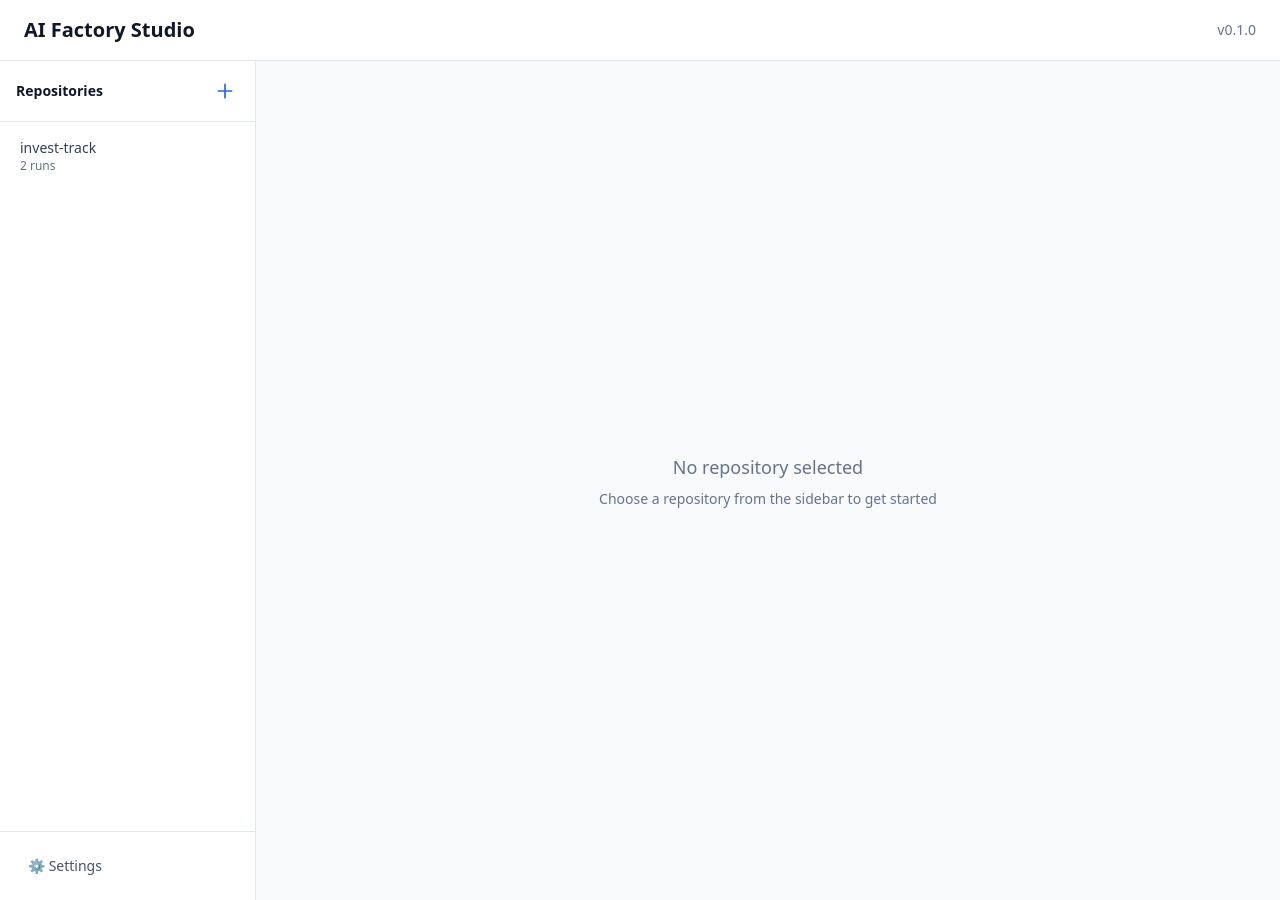
Scenario: on the whole screen › a saved default decides what the next task form starts from
Click the button "invest-track 2 runs".
click(128, 156)  # box [8,130,247,182]
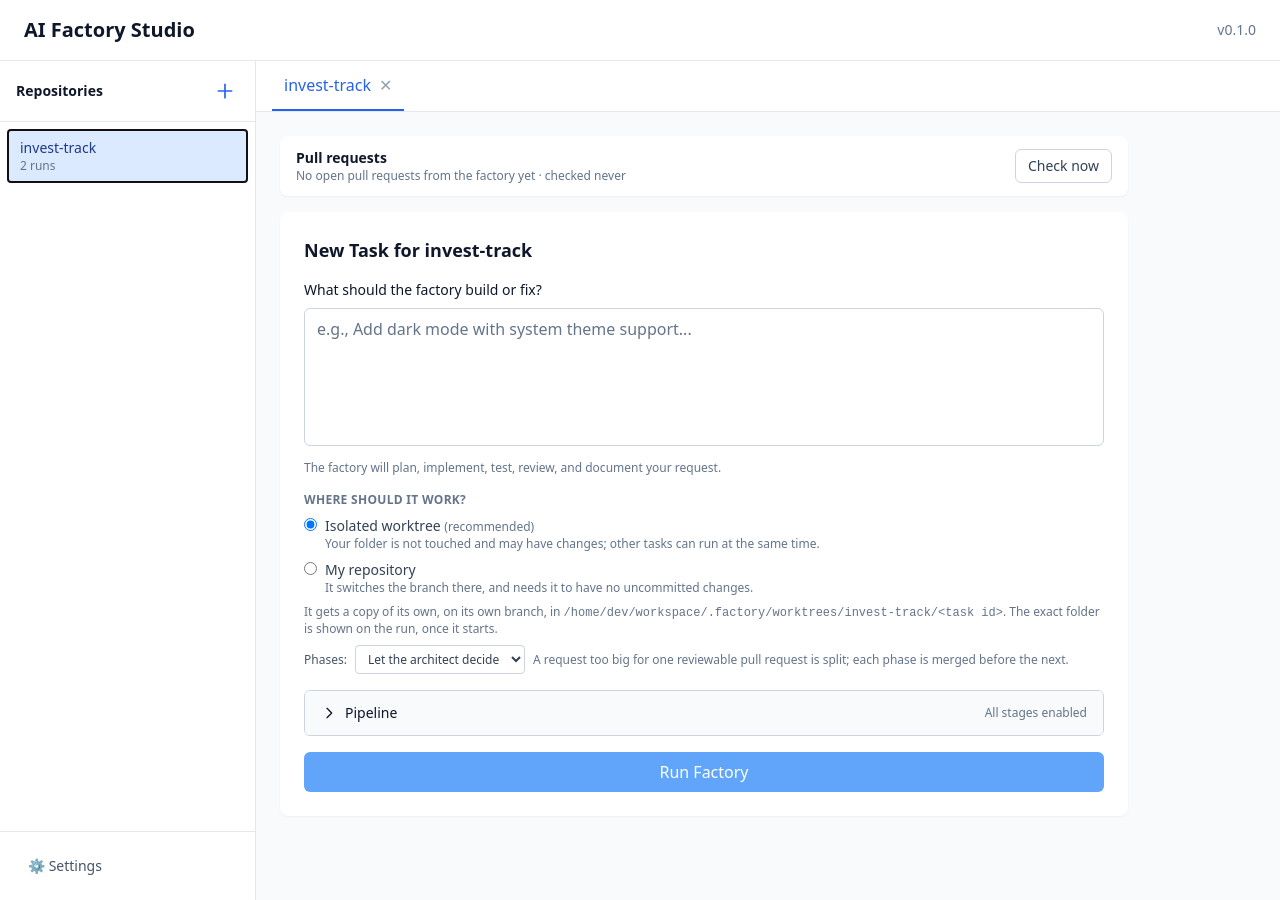
Expected: the heading "New Task for invest-track" is shown, [304,236,532,264]
Expected: the radio button labelled "Isolated worktree" is checked, [304,518,317,531]
Click the button "⚙️ Settings".
click(128, 866)  # box [16,848,239,884]
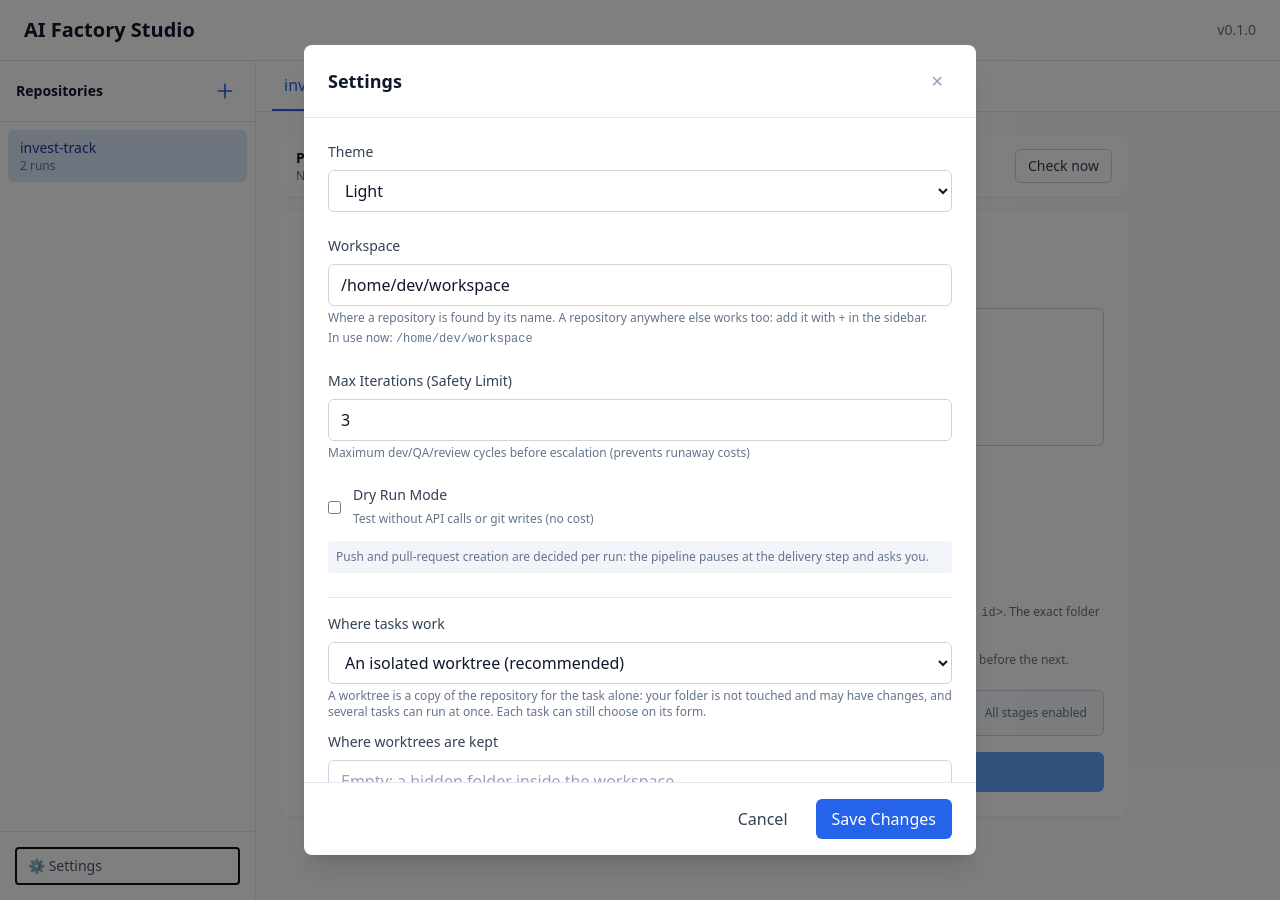
Select "My repository" in the dropdown labelled "Where tasks work" at (640, 663), box [328,642,952,684]
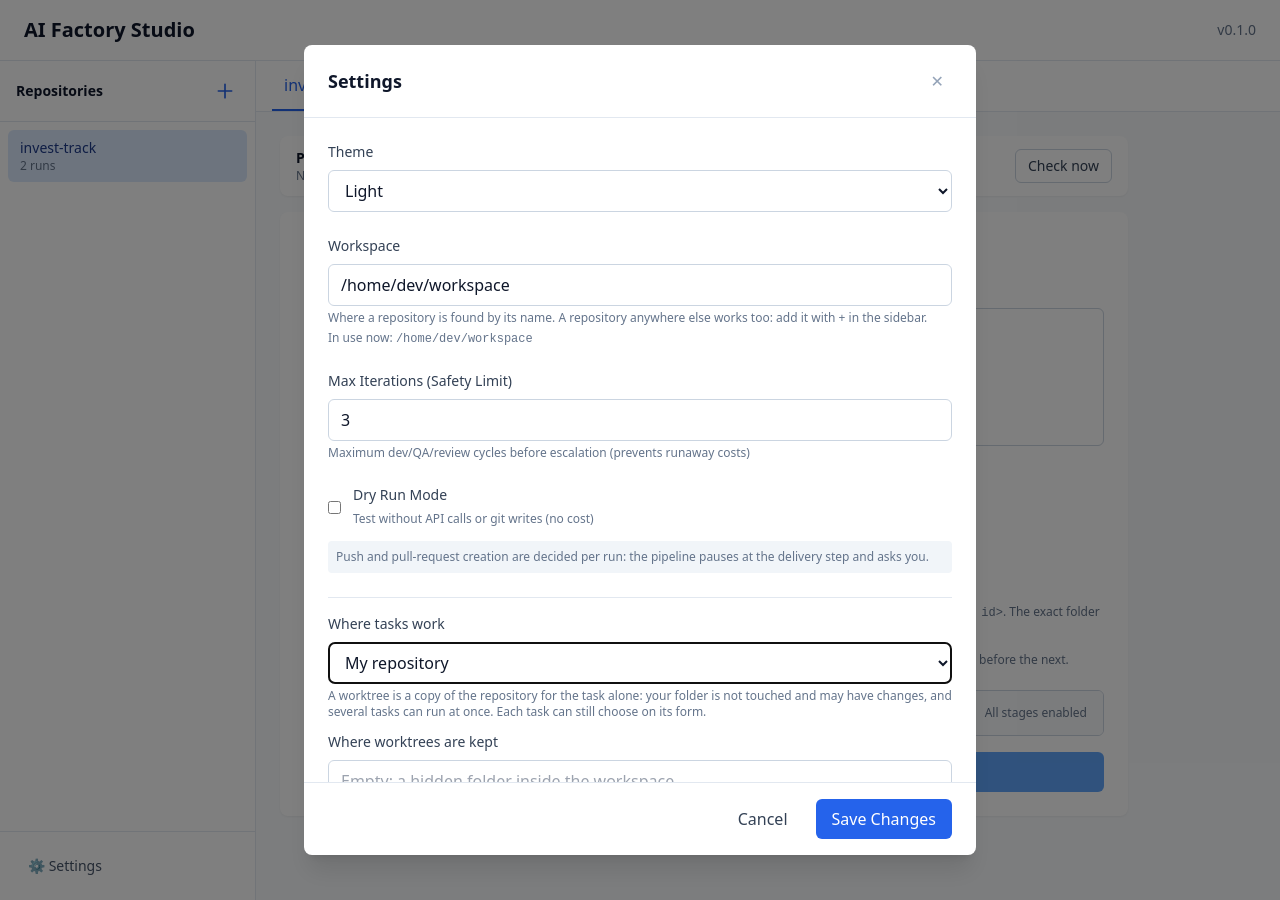
Click the button "Save Changes".
click(884, 819)  # box [816,799,952,839]
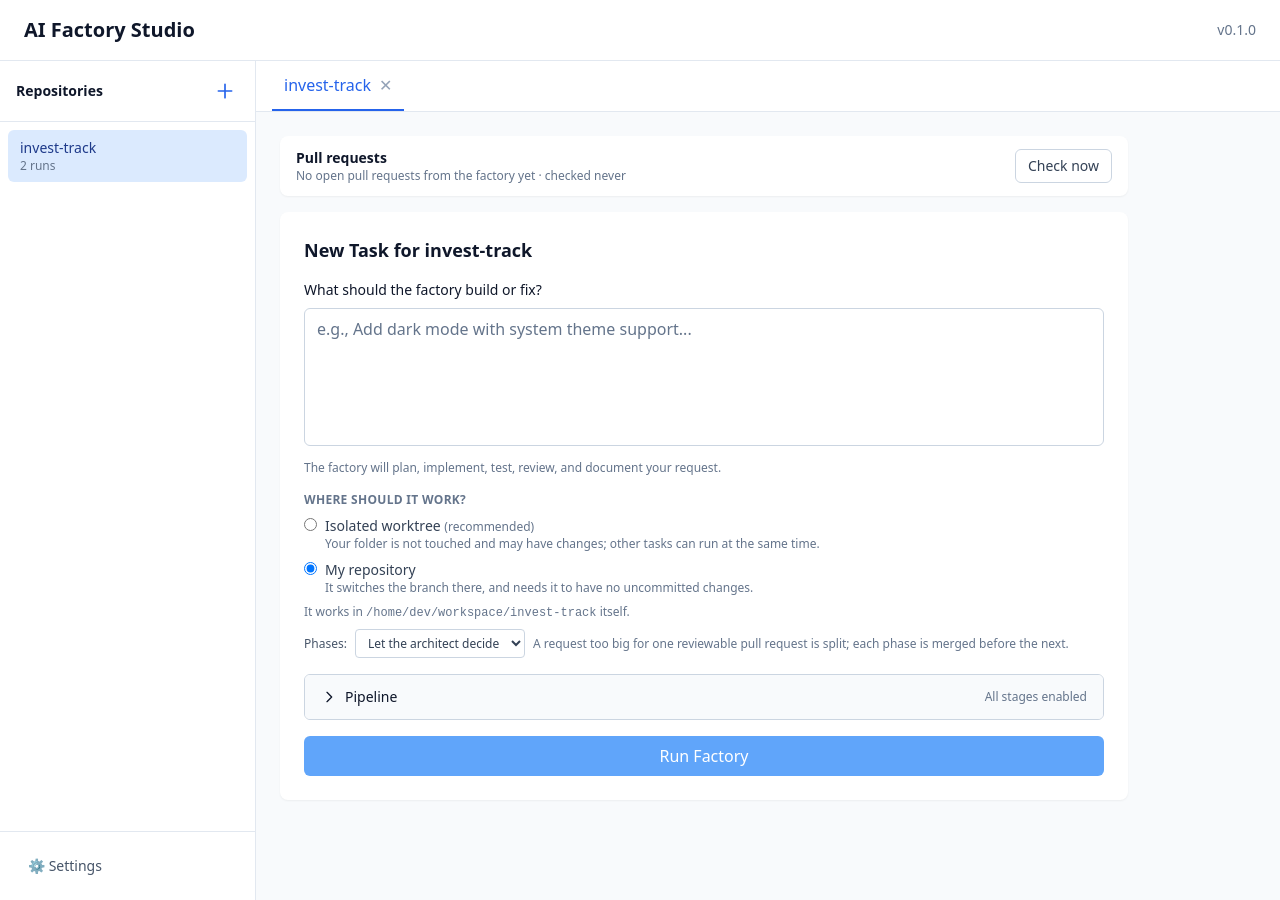
Expected: the radio button labelled "My repository" is checked, [304,562,317,575]
